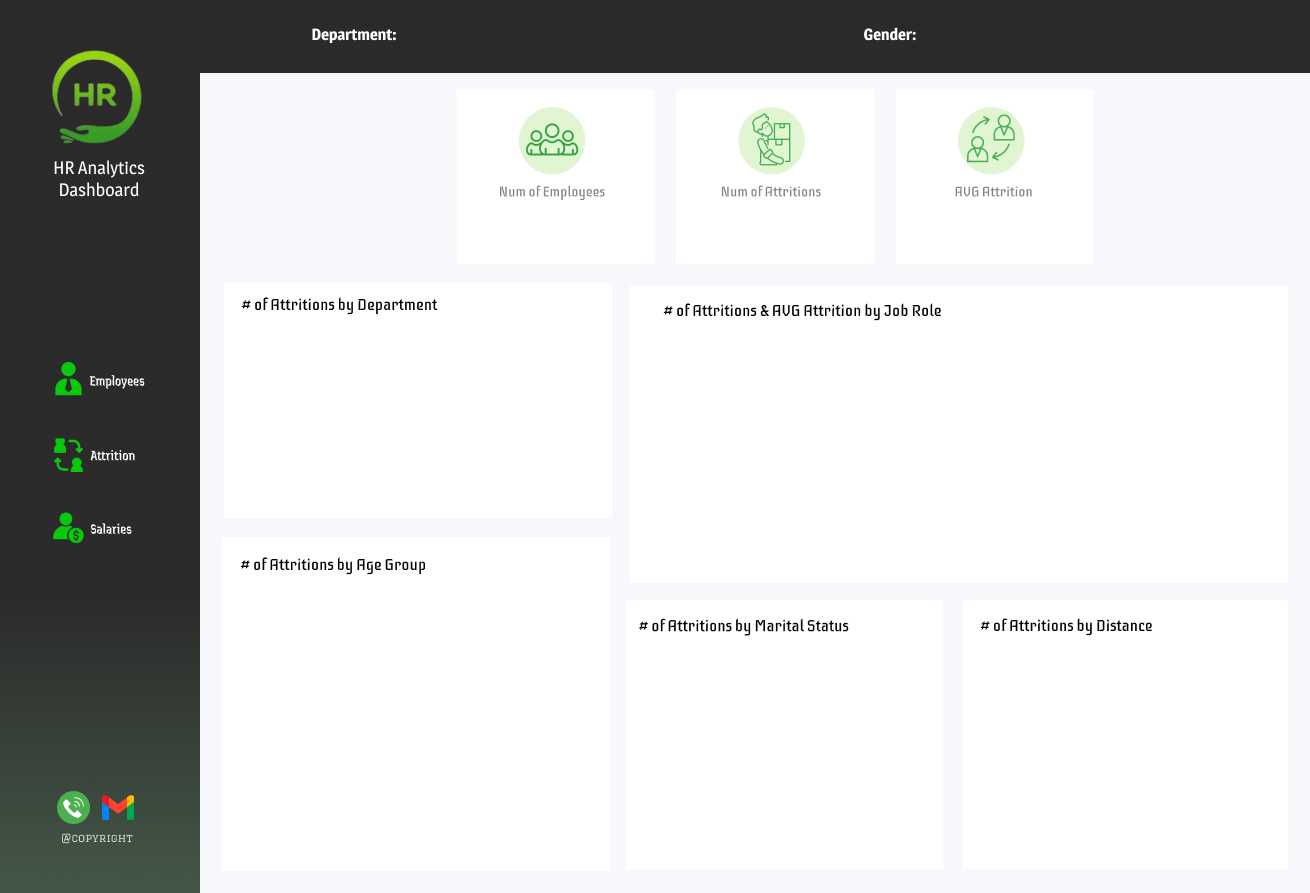

The dashboard page shown, as its layout file describes it:
{"tool":"powerbi","page":{"name":"Attrition","canvas":[1300,900],"ordinal":1},"visuals":[{"type":"lineClusteredColumnComboChart","fields":{"Category":["HR_Employee_Attrition.Job Role"],"Y":["All measures.# of Attritions"],"Y2":["All measures.Average Attrition"]},"box":[630.4,301.6,642.4,276],"z":0},{"type":"card","fields":{"Values":["All measures.# of Employees"]},"box":[511.2,208.1,79.9,37.7],"z":1000},{"type":"card","fields":{"Values":["All measures.# of Attritions"]},"box":[726.9,208.1,79.9,37.7],"z":2000},{"type":"card","fields":{"Values":["All measures.Average Attrition"]},"box":[948.6,208.1,79.9,37.7],"z":3000},{"type":"clusteredColumnChart","fields":{"Category":["HR_Employee_Attrition.Age Group"],"Y":["All measures.# of Attritions"],"Series":["HR_Employee_Attrition.Gender"]},"box":[226.2,562.5,377,310.7],"z":4000},{"type":"clusteredColumnChart","fields":{"Category":["HR_Employee_Attrition.Distance From Home (groups)"],"Y":["All measures.# of Attritions"]},"box":[960.6,610.8,322.7,262.4],"z":5000},{"type":"donutChart","fields":{"Y":["All measures.# of Attritions"],"Category":["HR_Employee_Attrition.Dep Gen"]},"box":[215.7,313.7,375.5,203.6],"z":6000},{"type":"donutChart","fields":{"Y":["All measures.# of Attritions"],"Category":["HR_Employee_Attrition.MaritalStatus"]},"box":[624.3,636.4,313.7,236.8],"z":7000},{"type":"slicer","fields":{"Values":["HR_Employee_Attrition.Dep Gen"]},"box":[379,7.5,425.3,55.8],"z":8000},{"type":"slicer","fields":{"Values":["HR_Employee_Attrition.Gender"]},"box":[898.8,7.5,309.2,55.8],"z":9000},{"type":"actionButton","box":[29.1,354.5,138.7,52.8],"z":10000},{"type":"actionButton","box":[29.1,429.9,138.7,52.8],"z":11000},{"type":"actionButton","box":[29.1,503.8,138.7,52.8],"z":12000}]}

Visuals, with their boxes on the page's 1300x900 design canvas (x1, y1, x2, y2). These are canvas units, not pixel positions in the 1310x893 screenshot, which may show the page scaled, cropped or inside an application window:
lineClusteredColumnComboChart - HR_Employee_Attrition.Job Role x All measures.# of Attritions: <box>630,302,1273,578</box>
card - All measures.# of Employees: <box>511,208,591,246</box>
card - All measures.# of Attritions: <box>727,208,807,246</box>
card - All measures.Average Attrition: <box>949,208,1028,246</box>
clusteredColumnChart - HR_Employee_Attrition.Age Group x All measures.# of Attritions: <box>226,562,603,873</box>
clusteredColumnChart - HR_Employee_Attrition.Distance From Home (groups) x All measures.# of Attritions: <box>961,611,1283,873</box>
donutChart - All measures.# of Attritions x HR_Employee_Attrition.Dep Gen: <box>216,314,591,517</box>
donutChart - All measures.# of Attritions x HR_Employee_Attrition.MaritalStatus: <box>624,636,938,873</box>
slicer - HR_Employee_Attrition.Dep Gen: <box>379,8,804,63</box>
slicer - HR_Employee_Attrition.Gender: <box>899,8,1208,63</box>
actionButton: <box>29,354,168,407</box>
actionButton: <box>29,430,168,483</box>
actionButton: <box>29,504,168,557</box>
